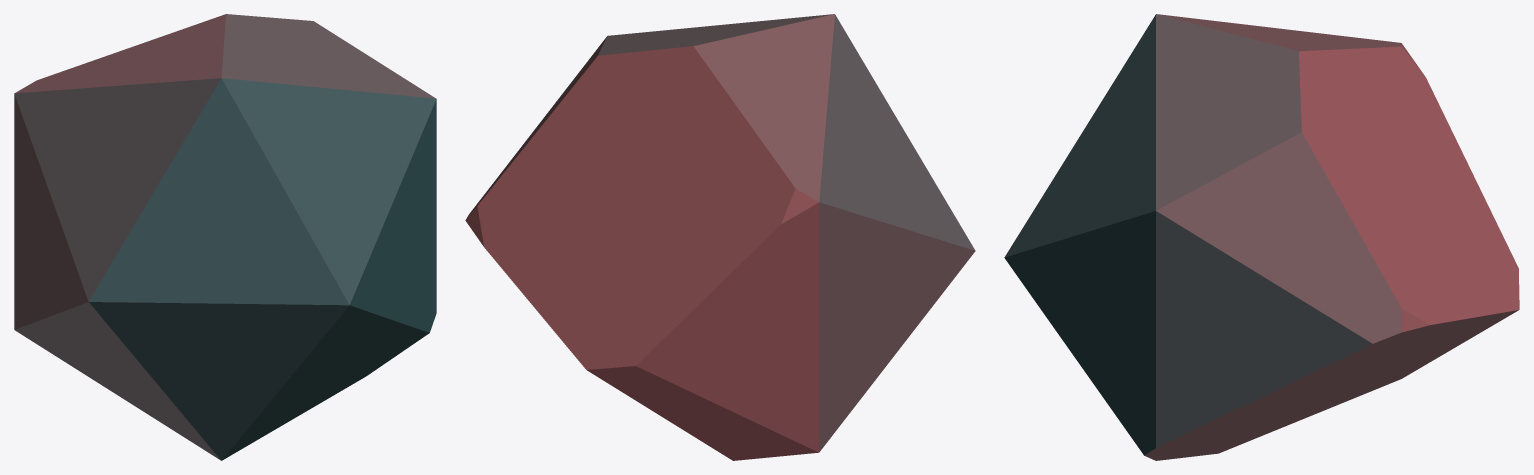
The model's file is gemstone_anim_neg10_5_10.glb.
The picture shows the model from 3 angles, left to right: view 1: azimuth 30°, elevation 25°; view 2: azimuth 150°, elevation 25°; view 3: azimuth 270°, elevation 25°; orthographic projection. The views are drawn at different scales.
Visible parts, largest first — view 1: gemstone_anim_neg10_5_10; view 2: gemstone_anim_neg10_5_10; view 3: gemstone_anim_neg10_5_10.
Part boxes in pixels (box(x1,y1,x2,y2)): gemstone_anim_neg10_5_10: box(14, 14, 436, 460); gemstone_anim_neg10_5_10: box(465, 14, 975, 460); gemstone_anim_neg10_5_10: box(1004, 14, 1519, 460).
Size of the model in its own units: 1872 by 1801 by 1987.
